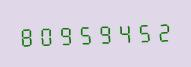eight: (17, 22, 35, 49)
five: (74, 20, 92, 47), (131, 18, 149, 45)
four: (112, 19, 130, 45)
nine: (55, 21, 73, 47), (93, 20, 111, 46)
two: (150, 18, 168, 44)
zero: (36, 22, 54, 48)
